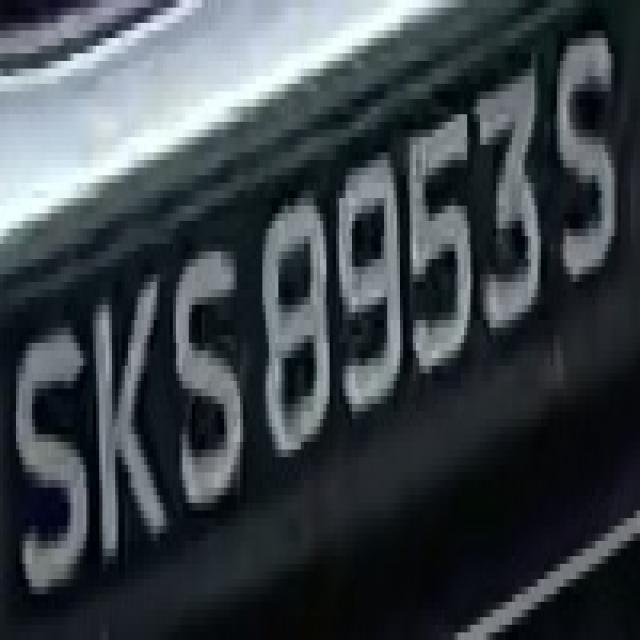3: (454, 68, 544, 350)
5: (400, 84, 477, 381)
8: (253, 183, 333, 480)
9: (326, 137, 404, 404)
K: (90, 274, 176, 579)
S: (3, 297, 90, 602), (544, 23, 634, 305), (157, 244, 246, 526)
